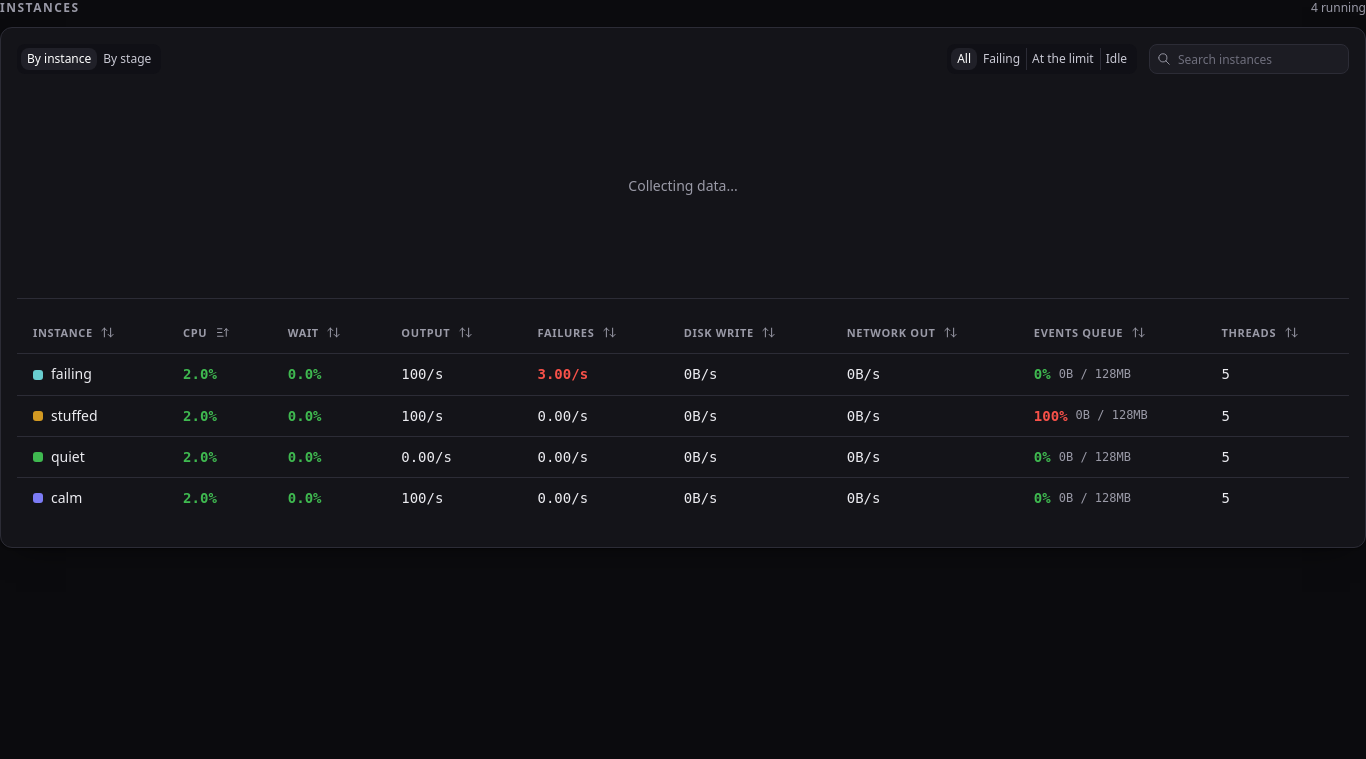
Test: InstancesSection › opens the details of the instance a row belongs to
The image size is (1366, 759).
Click the text "failing". click: (71, 375)
box: [51,364,92,385]
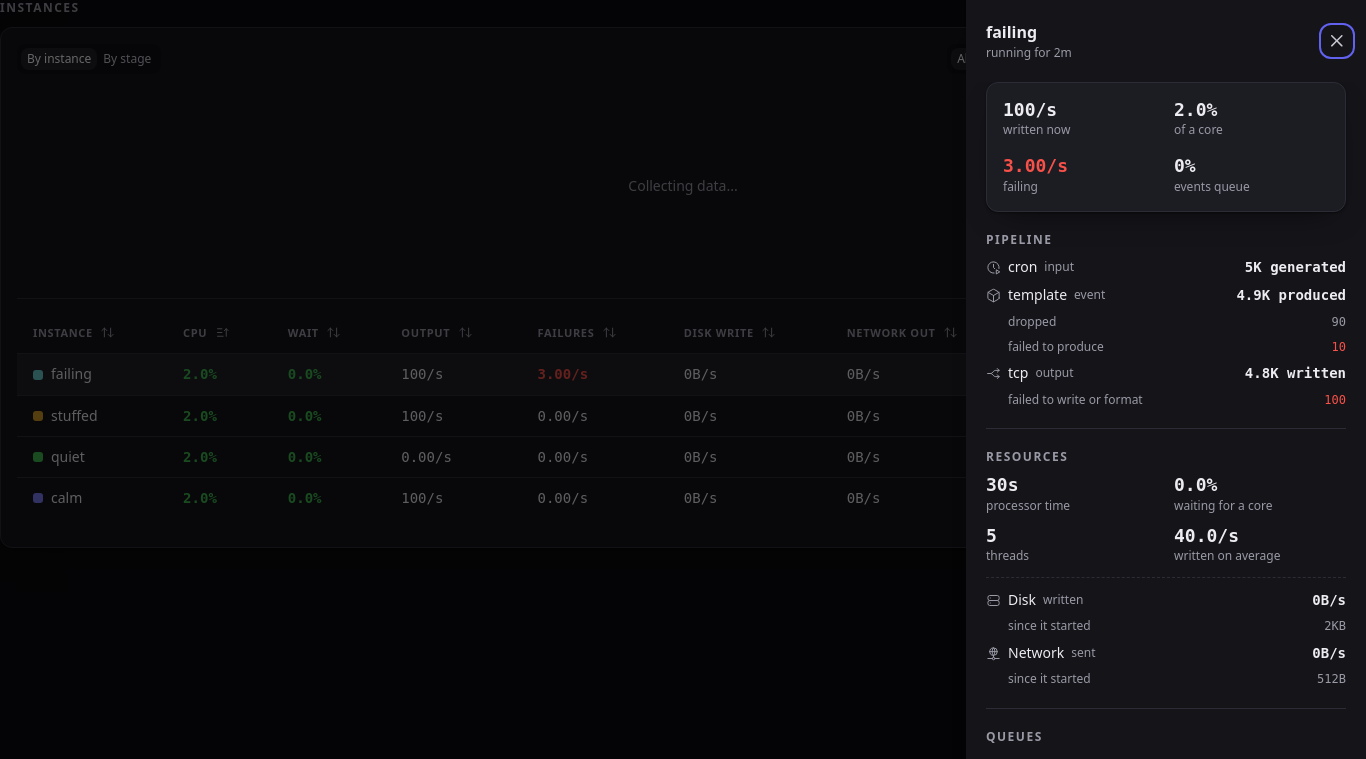
Expected: the text "cron" is shown, [1008,257,1037,278]
Expected: the text "5K generated" is shown, [1245,257,1346,278]
Expected: the text "failed to write or format" is shown, [1008,392,1143,408]
